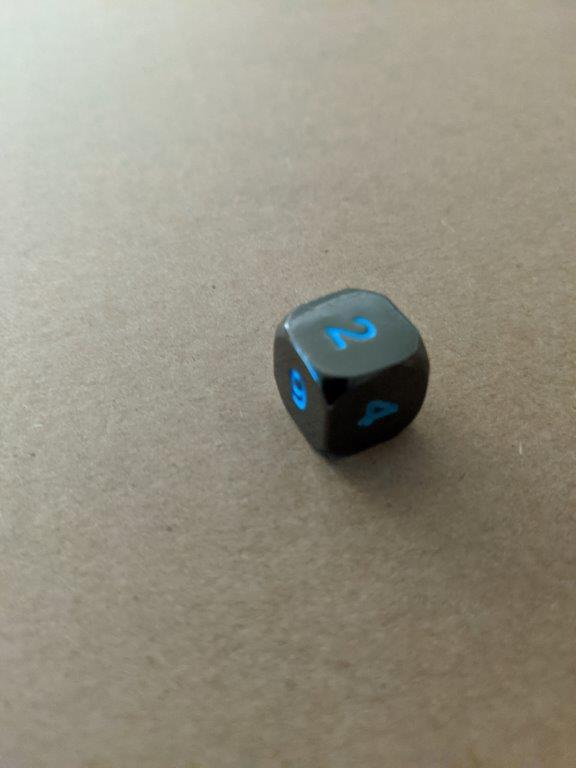d6-2: (273, 287, 431, 460)
